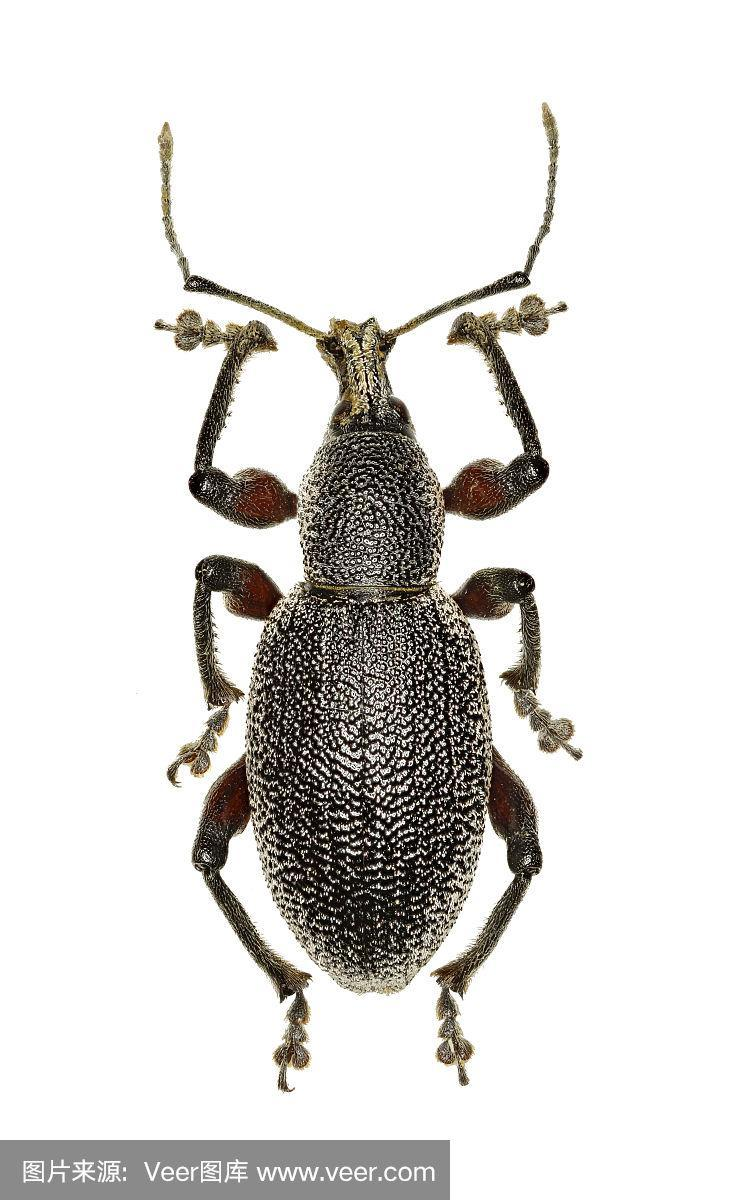Curculionidae: (153, 102, 585, 1094)
